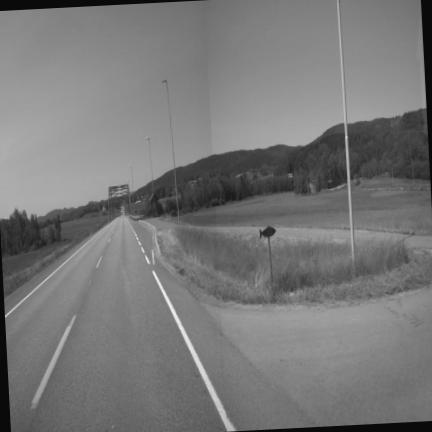Road: (4, 217, 431, 431)
